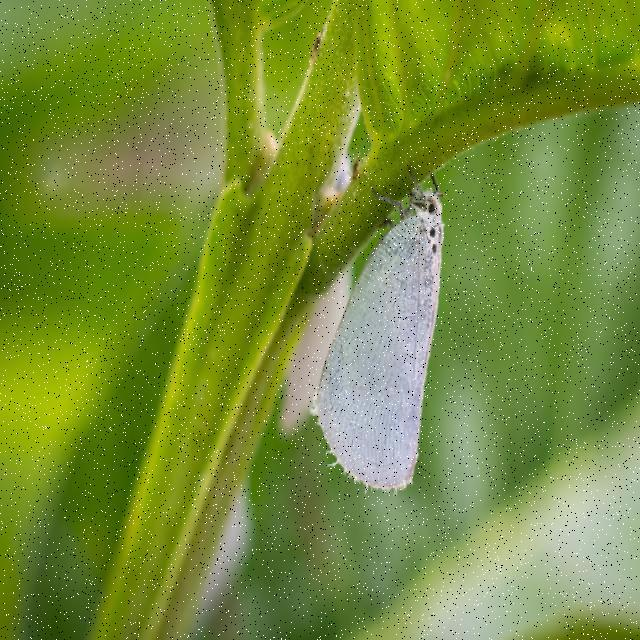Whiteflies: (295, 153, 475, 520)
